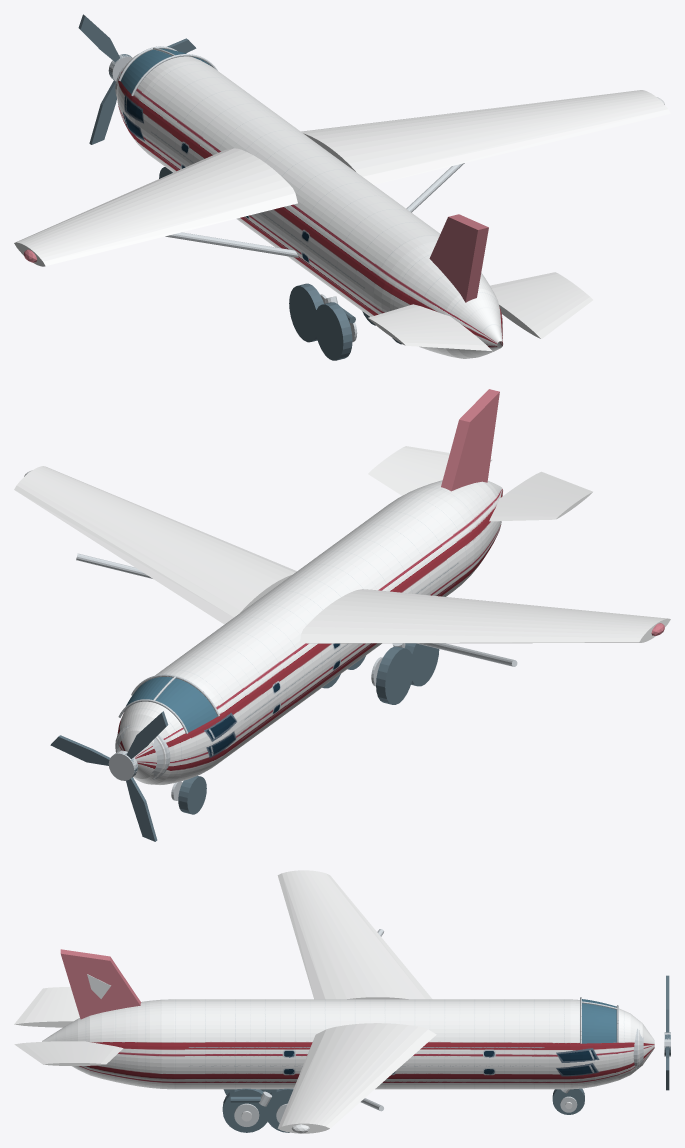
Rendered from 05_light_trainer.glb.
3 renders of one model, top to bottom at view 1: azimuth 30°, elevation 25°; view 2: azimuth 150°, elevation 25°; view 3: azimuth 270°, elevation 25°, orthographic. The views are drawn at different scales.
Visible parts, largest first — view 1: body-details, textured_airframe, accent-details, landing_gear_dark, metal-details, propeller_front, glass-details; view 2: textured_airframe, body-details, landing_gear_dark, accent-details, metal-details, propeller_front, glass-details; view 3: textured_airframe, body-details, accent-details, landing_gear_dark, glass-details, metal-details, landing_gear_metal, trim-details, propeller_front.
Boxes of the visible parts, box(x1,y1,x2,y2) form: body-details: box(14, 90, 670, 351); textured_airframe: box(116, 54, 503, 358); accent-details: box(24, 214, 488, 302); landing_gear_dark: box(159, 167, 401, 360); metal-details: box(108, 46, 464, 257); propeller_front: box(78, 14, 196, 144); glass-details: box(121, 48, 210, 93); textured_airframe: box(117, 480, 503, 784); body-details: box(14, 446, 670, 643); landing_gear_dark: box(178, 643, 439, 814); accent-details: box(441, 389, 664, 635); metal-details: box(76, 553, 517, 780); propeller_front: box(50, 711, 168, 841); glass-details: box(126, 677, 217, 732); textured_airframe: box(42, 999, 654, 1089); body-details: box(14, 870, 436, 1133); accent-details: box(60, 949, 141, 1019); landing_gear_dark: box(222, 1088, 584, 1132); glass-details: box(582, 999, 616, 1043); metal-details: box(360, 929, 670, 1111); landing_gear_metal: box(234, 1089, 577, 1126); trim-details: box(87, 974, 639, 1133); propeller_front: box(665, 975, 670, 1090).
Size of the model in its own units: 13.96 by 4.22 by 15.01.
11 materials, 1 textured.
